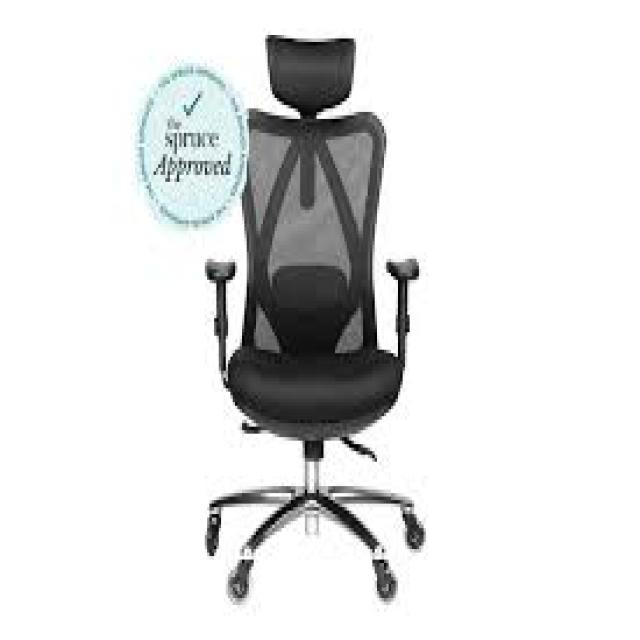chair: (167, 18, 454, 632)
